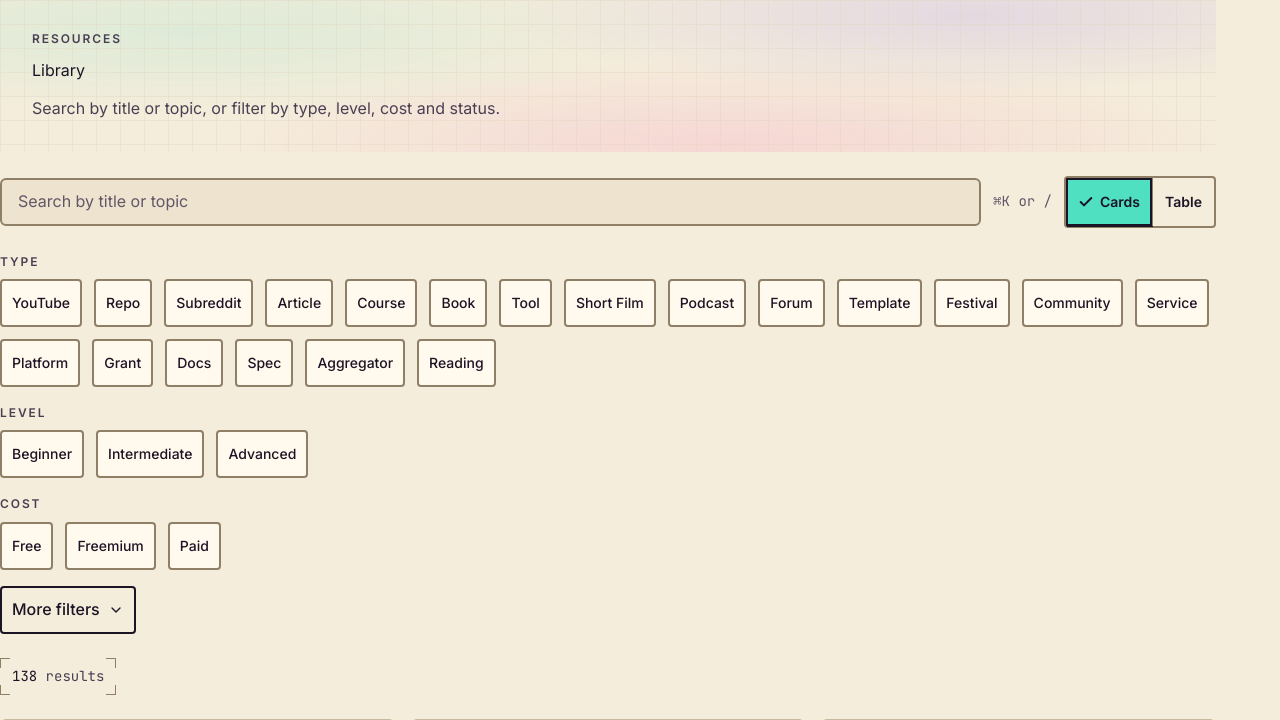
Test case: Library › folds Topic, Status, Week and Language behind a collapsed disclosure by default
Expected: the button "Tamil" is not shown
Expected: the button "Week 3" is not shown
Click the button "More filters" at (68,610), box [0, 586, 136, 634]
(page scrolled)
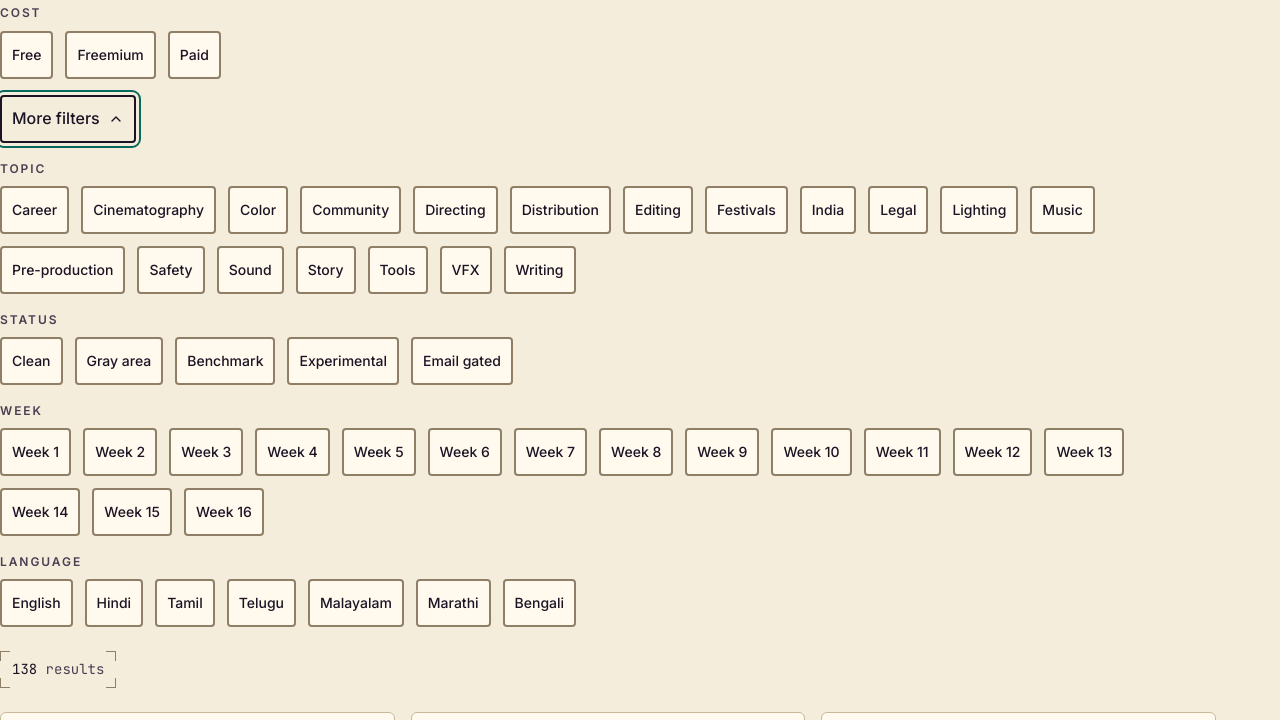
Now the button "More filters" is expanded, box [0, 94, 136, 142]
Now the button "Tamil" is shown, box [155, 579, 215, 627]
Now the button "Week 3" is shown, box [169, 428, 243, 476]
